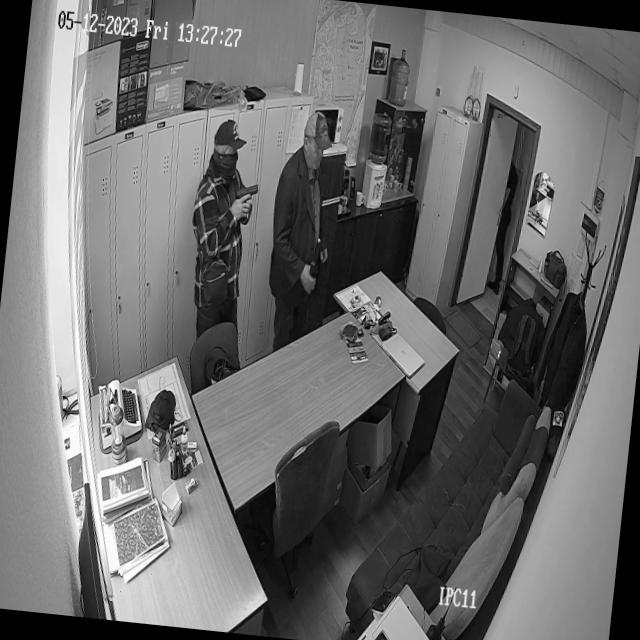gun: (234, 178, 258, 214)
person: (262, 106, 342, 326)
person with a gun: (180, 114, 266, 321)
